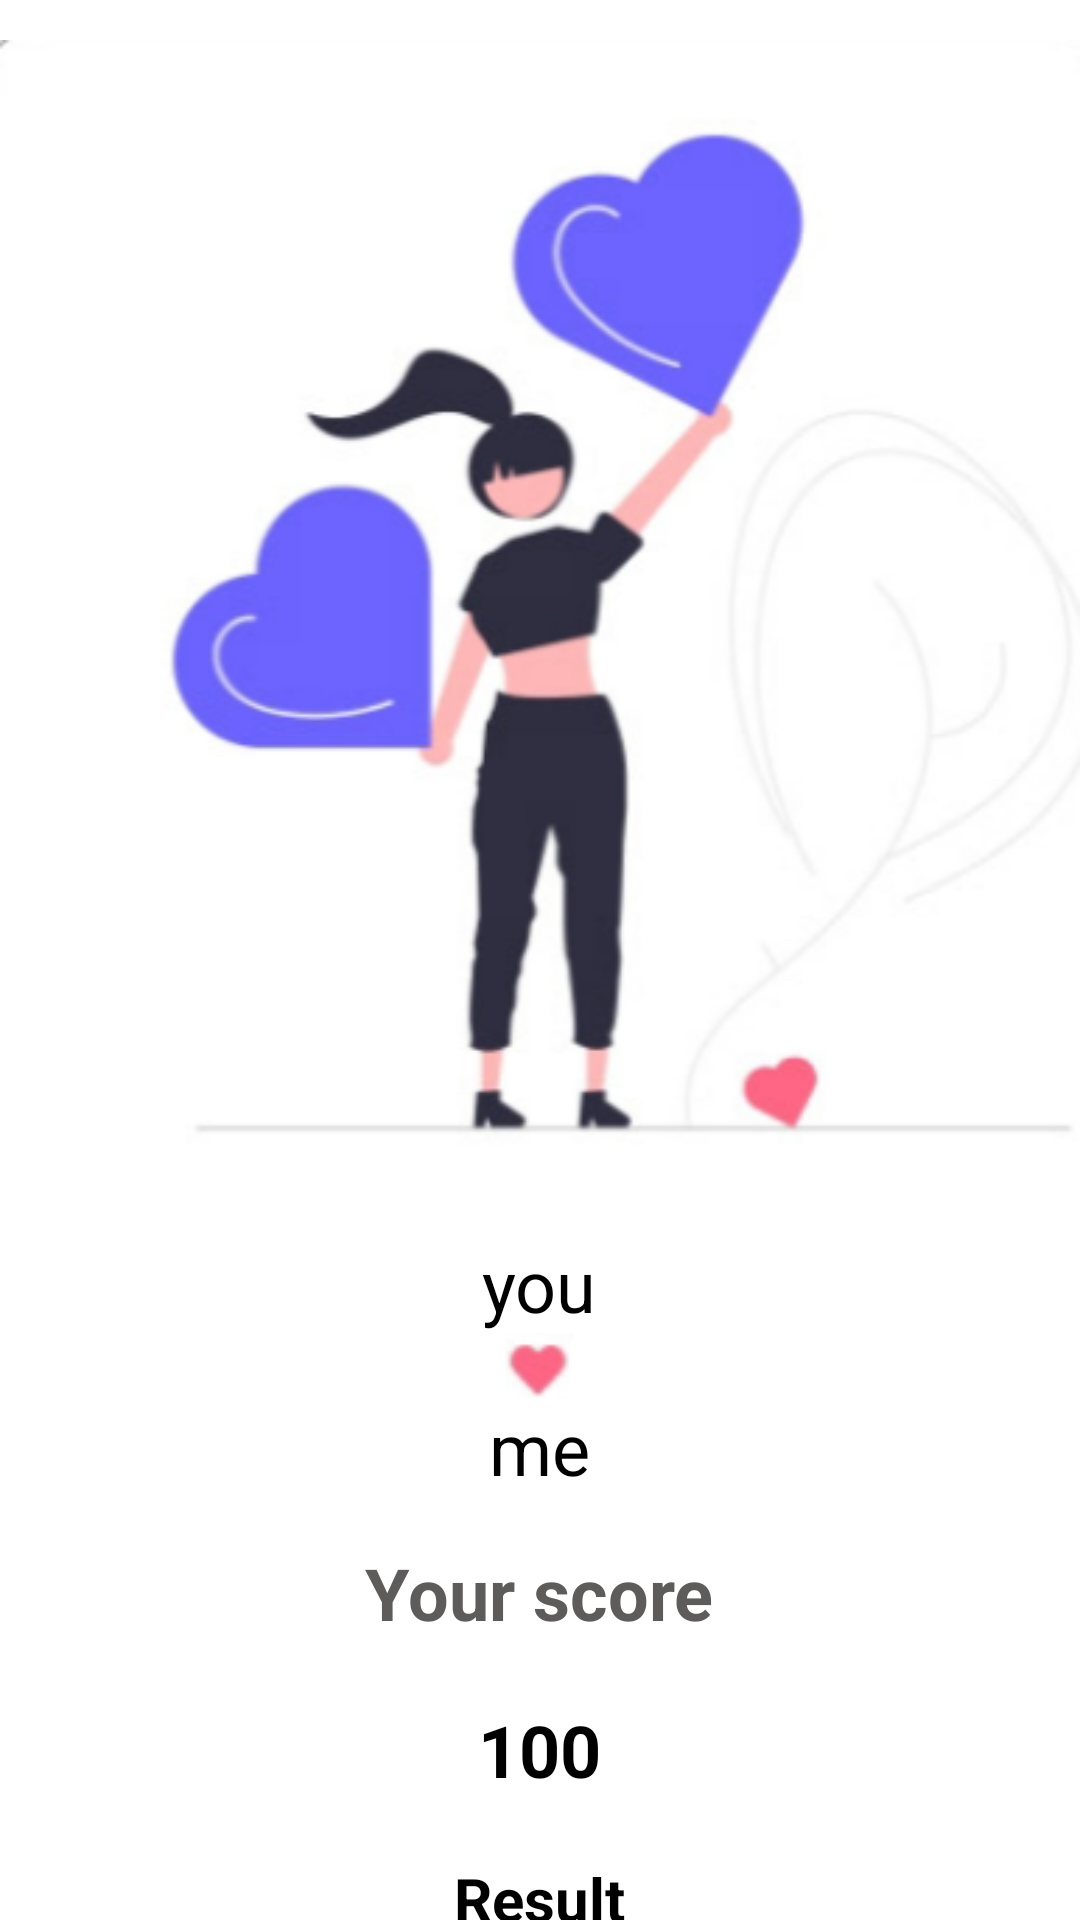

Icons on this 1080×1920 Android screen, each with the point to tap as [x,y]:
little heart: [538,1370]
